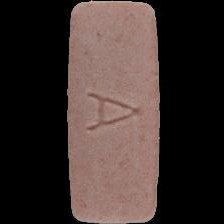61786-496: (0, 0, 224, 224)
